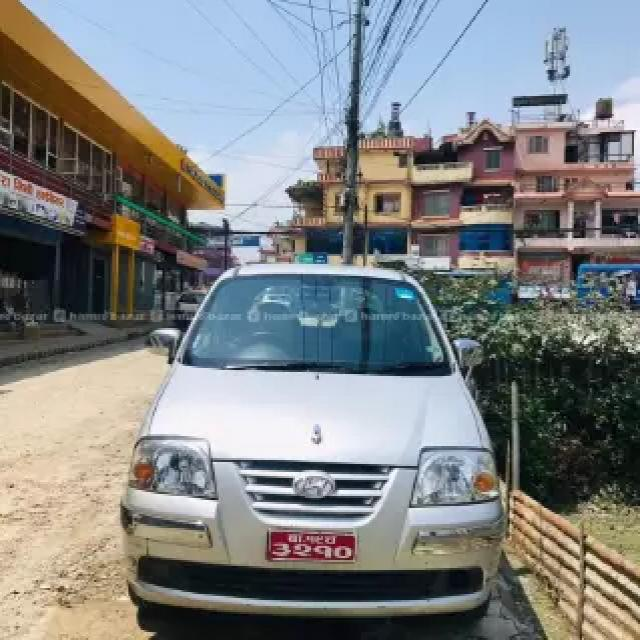License-plate: (268, 532, 360, 563)
